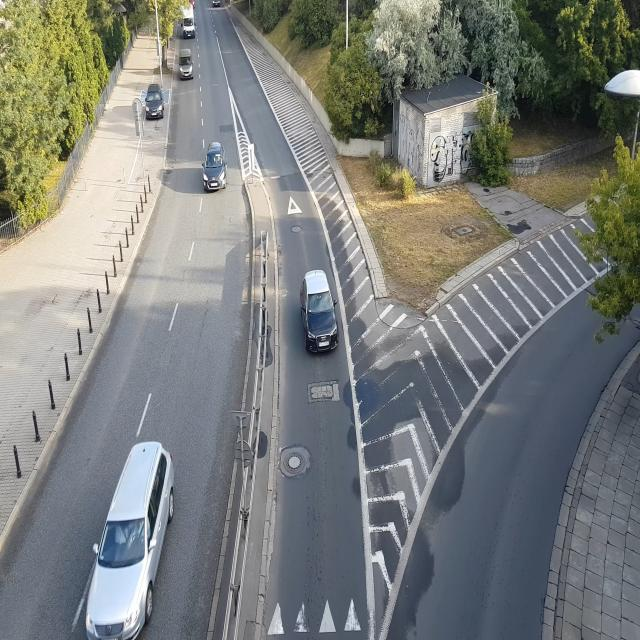car: (82, 421, 178, 635), (296, 259, 349, 363), (198, 134, 235, 200), (139, 77, 171, 123), (174, 45, 196, 81), (180, 2, 198, 38), (210, 0, 222, 15)
